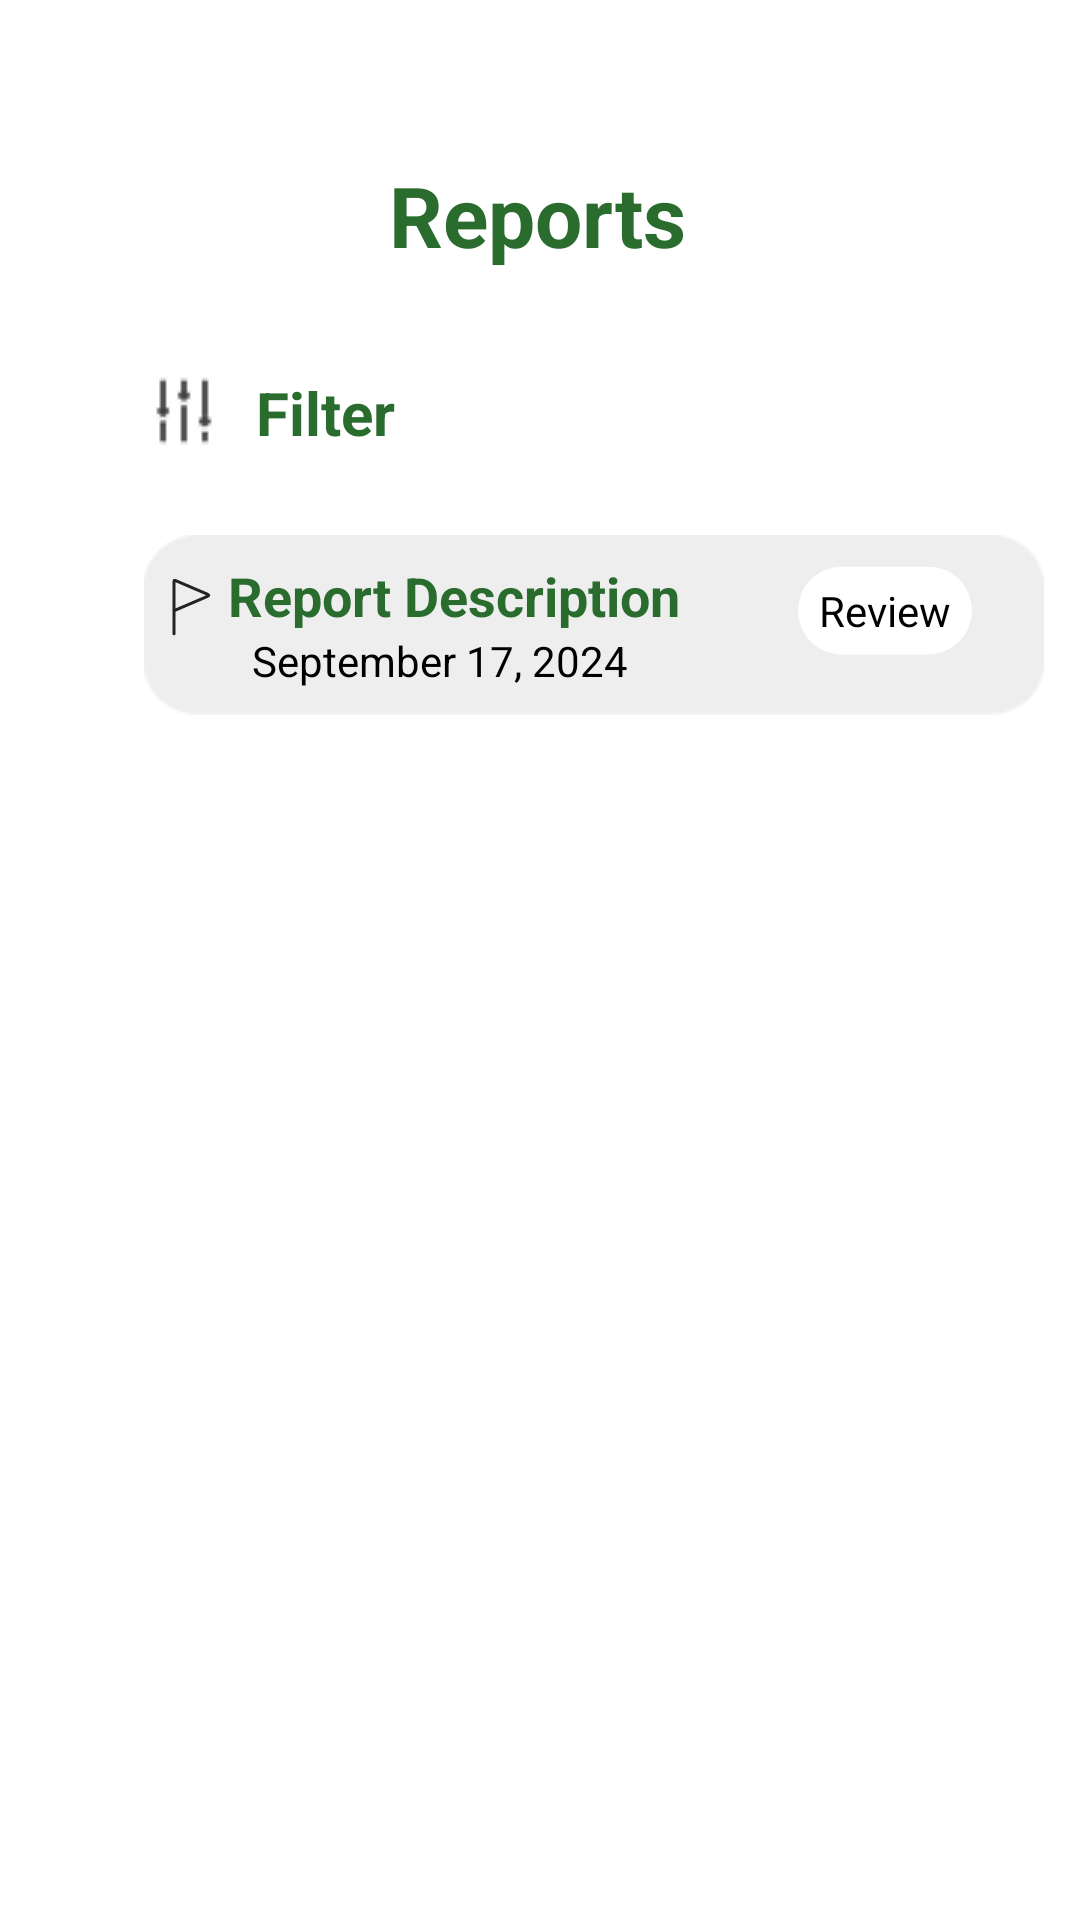

Screen size 1080px×1920px. Icon name, then its box in pixels as (x1, y1, x2, y2):
flag: (172, 579, 211, 636)
